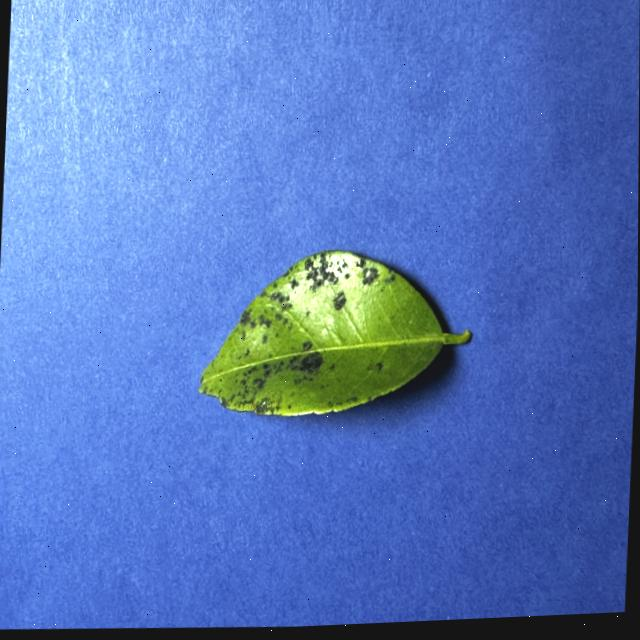sooty_mold: (200, 249, 470, 414)
